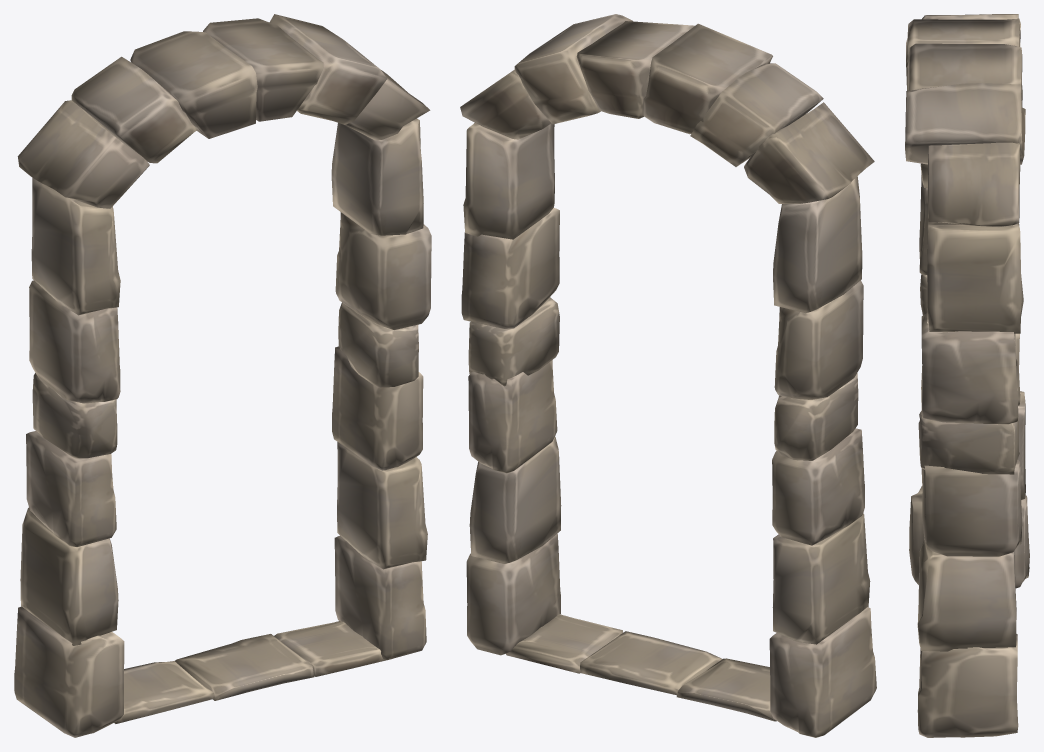
File: DoorFrame_Round_Brick.gltf
The picture shows the model from 3 angles, left to right: view 1: azimuth 30°, elevation 25°; view 2: azimuth 150°, elevation 25°; view 3: azimuth 270°, elevation 25°; orthographic projection. The views are drawn at different scales.
Parts seen in each view (by area): view 1: DoorFrame_Round_Brick; view 2: DoorFrame_Round_Brick; view 3: DoorFrame_Round_Brick.
Boxes of the visible parts, <box> form: DoorFrame_Round_Brick: <box>14,14,431,737</box>; DoorFrame_Round_Brick: <box>460,14,876,737</box>; DoorFrame_Round_Brick: <box>905,14,1029,737</box>.
Size of the model in its own units: 1.6 by 2.59 by 0.4772.
1 material, 1 textured.
